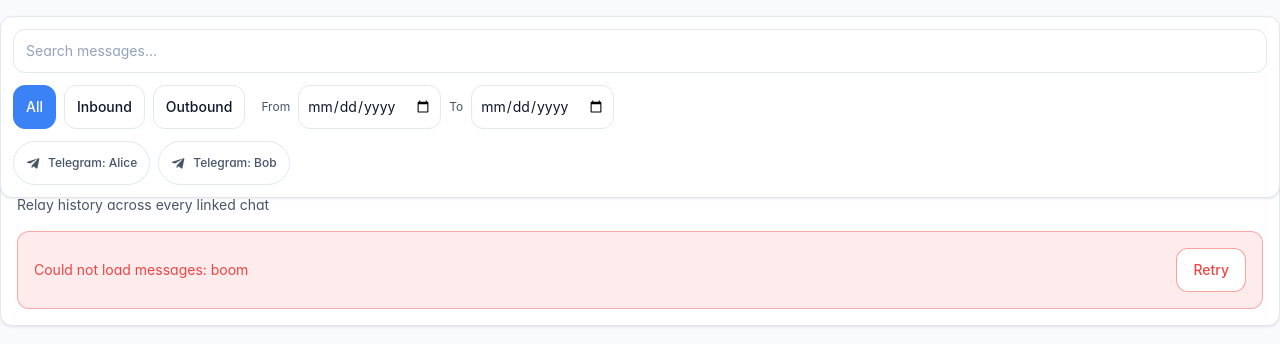
Scenario: <Messages /> › shows the error banner with a working retry
Expected: the message shows "boom", [211, 261, 248, 278]
Click the button "Retry" at [1211, 270], box [1176, 248, 1246, 292]
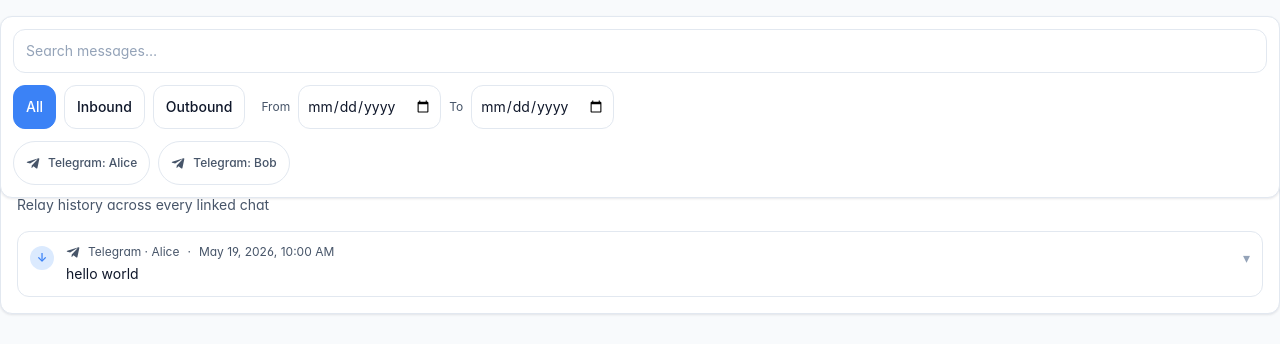
Result: the text "hello world" is shown at [66, 265, 139, 282]
